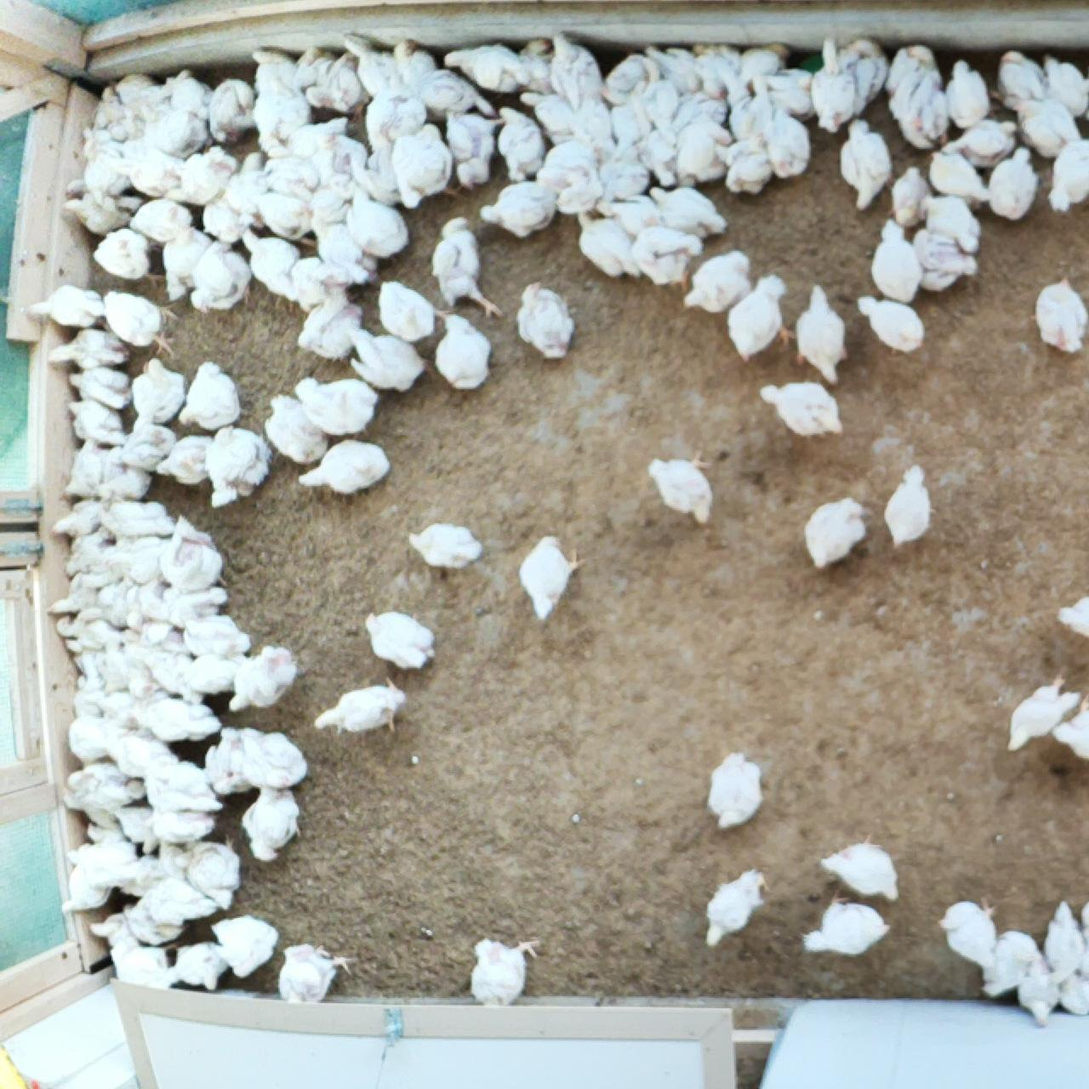chicken: (429, 217, 507, 322), (796, 885, 899, 961), (391, 120, 470, 212), (1005, 675, 1088, 757), (84, 290, 187, 356), (516, 532, 589, 623), (817, 829, 905, 904), (721, 272, 791, 365), (347, 326, 439, 395), (310, 678, 411, 740), (295, 369, 384, 439), (297, 438, 395, 501), (794, 283, 852, 387), (647, 453, 726, 529), (515, 281, 583, 369), (758, 379, 851, 443), (443, 105, 510, 193), (857, 219, 926, 304), (158, 516, 235, 592), (933, 890, 1004, 970), (226, 642, 307, 712), (476, 180, 566, 243), (468, 933, 542, 1006), (57, 843, 133, 914), (177, 835, 246, 913), (275, 941, 359, 1005), (702, 866, 769, 946), (704, 746, 767, 831), (240, 785, 305, 867), (838, 115, 894, 210), (210, 426, 274, 509), (539, 139, 607, 217), (972, 930, 1046, 1001), (1029, 276, 1089, 362), (571, 210, 643, 281), (801, 497, 872, 569), (60, 759, 151, 815), (629, 223, 707, 288), (362, 610, 441, 674), (810, 33, 860, 134), (299, 48, 374, 115), (440, 42, 538, 93), (295, 291, 366, 361), (681, 246, 757, 311), (643, 185, 732, 240), (886, 76, 951, 151), (910, 227, 980, 296), (210, 911, 282, 978), (434, 313, 495, 392), (260, 394, 326, 467), (363, 81, 429, 154), (377, 278, 452, 342), (550, 31, 609, 112), (201, 725, 265, 798), (856, 294, 931, 356), (346, 188, 412, 258), (190, 242, 252, 316), (141, 760, 224, 815), (143, 797, 219, 857), (881, 464, 934, 550), (179, 357, 242, 429), (413, 68, 494, 124), (99, 845, 186, 897), (570, 94, 639, 159), (309, 131, 373, 201), (496, 102, 550, 184), (839, 31, 893, 113), (241, 226, 300, 301), (263, 117, 355, 165), (148, 580, 232, 632), (240, 730, 311, 791), (100, 531, 174, 589), (946, 58, 1005, 130), (408, 520, 488, 573), (134, 700, 226, 746), (883, 40, 946, 107), (143, 875, 225, 926), (988, 148, 1043, 224), (222, 148, 271, 233), (130, 358, 188, 428), (1014, 100, 1083, 158), (254, 89, 316, 153), (341, 32, 405, 94), (986, 46, 1050, 108), (106, 725, 182, 777), (382, 33, 444, 96), (162, 224, 212, 302), (256, 190, 321, 250), (141, 644, 206, 704), (158, 941, 236, 991), (674, 123, 732, 190), (97, 499, 181, 545), (925, 150, 989, 210), (97, 645, 168, 699), (316, 224, 378, 284), (599, 139, 658, 202), (23, 284, 107, 328), (599, 50, 665, 106), (67, 717, 135, 771), (1015, 953, 1062, 1031), (754, 66, 819, 122), (920, 196, 985, 252), (945, 117, 1019, 166), (763, 109, 814, 180), (1041, 898, 1086, 978), (93, 446, 155, 504), (290, 257, 355, 312), (520, 90, 586, 144), (209, 75, 259, 145), (60, 438, 113, 503), (47, 329, 131, 370), (1040, 51, 1089, 121), (353, 145, 408, 206), (690, 46, 747, 104), (886, 165, 939, 227), (125, 198, 198, 243), (729, 79, 781, 142), (640, 40, 704, 91), (63, 522, 119, 580), (124, 898, 191, 946), (91, 228, 153, 279), (1049, 134, 1089, 213), (184, 649, 252, 695), (667, 89, 735, 135), (721, 136, 774, 195), (143, 110, 209, 157), (63, 195, 135, 238), (54, 613, 124, 657), (604, 193, 668, 241), (155, 433, 214, 485), (112, 424, 179, 469), (70, 579, 137, 624), (107, 944, 174, 989), (116, 154, 186, 197), (47, 570, 110, 617), (250, 49, 313, 96), (66, 400, 129, 446), (636, 126, 680, 191), (68, 366, 134, 409), (110, 802, 170, 849), (181, 618, 253, 657), (123, 577, 174, 632), (308, 185, 358, 240), (159, 163, 224, 205), (1051, 694, 1089, 765), (610, 92, 653, 153), (262, 154, 324, 195), (83, 155, 131, 207), (513, 37, 558, 92), (133, 618, 193, 659), (641, 77, 681, 137), (736, 46, 788, 92), (200, 197, 253, 242), (51, 497, 104, 542), (87, 911, 143, 952), (185, 143, 239, 183), (168, 75, 216, 119), (71, 676, 116, 720), (121, 86, 179, 120), (128, 689, 177, 728), (78, 124, 126, 162), (95, 83, 134, 129), (110, 628, 167, 659), (694, 42, 743, 78), (78, 818, 135, 848), (93, 690, 140, 725), (73, 646, 107, 694), (1055, 972, 1089, 1019), (1057, 593, 1089, 637), (64, 177, 133, 197), (117, 133, 163, 159), (112, 76, 161, 96), (116, 191, 153, 212), (1080, 898, 1089, 975), (166, 198, 177, 203), (179, 170, 187, 173)
